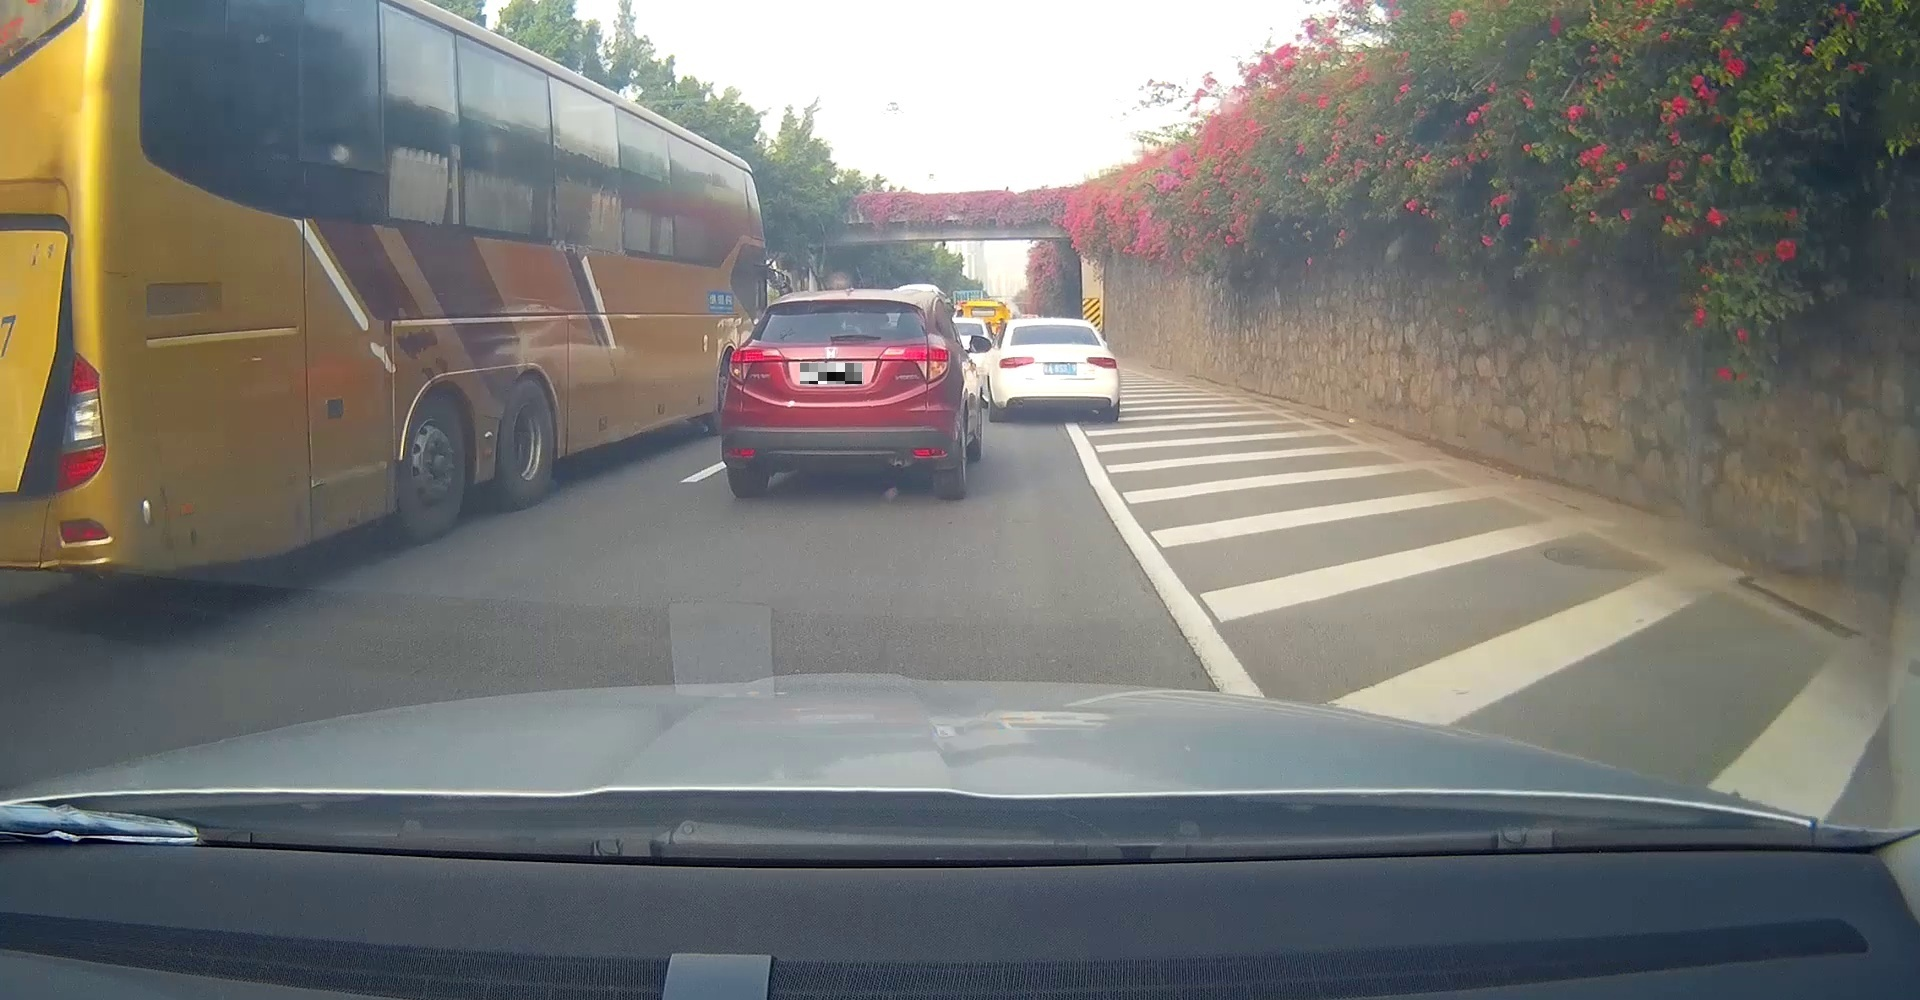L_light: (729, 345, 783, 385), (997, 357, 1034, 369)
R_light: (879, 343, 949, 382), (1087, 357, 1117, 371)
T_light: (817, 299, 855, 306), (1041, 325, 1064, 329)
day-no: (721, 289, 963, 500), (989, 319, 1119, 423)
plate_1: (800, 363, 862, 385)
